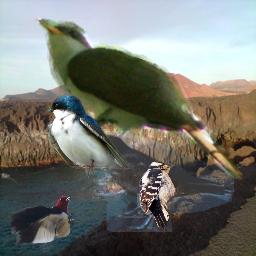Crow: (81, 131, 234, 232)
Cuckoo: (33, 18, 246, 180)
Swallow: (45, 93, 131, 180)
Woodpecker: (137, 160, 185, 233), (11, 193, 78, 245)
